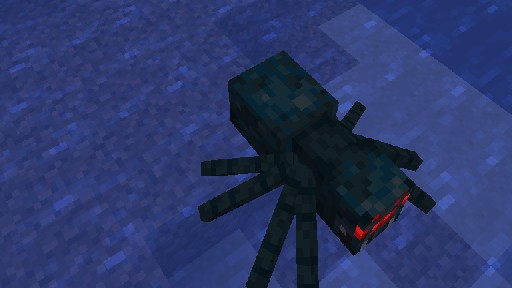cave_spider: (197, 49, 436, 288)
